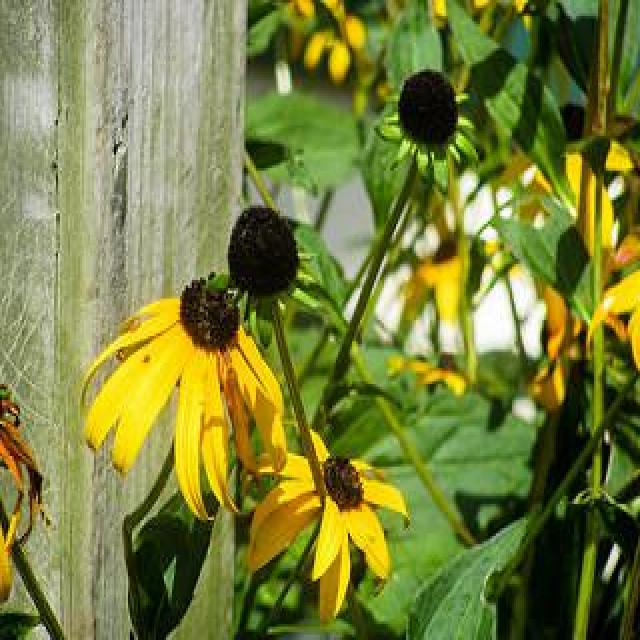sunflower: (81, 280, 287, 516), (248, 424, 411, 616), (395, 226, 496, 322)
